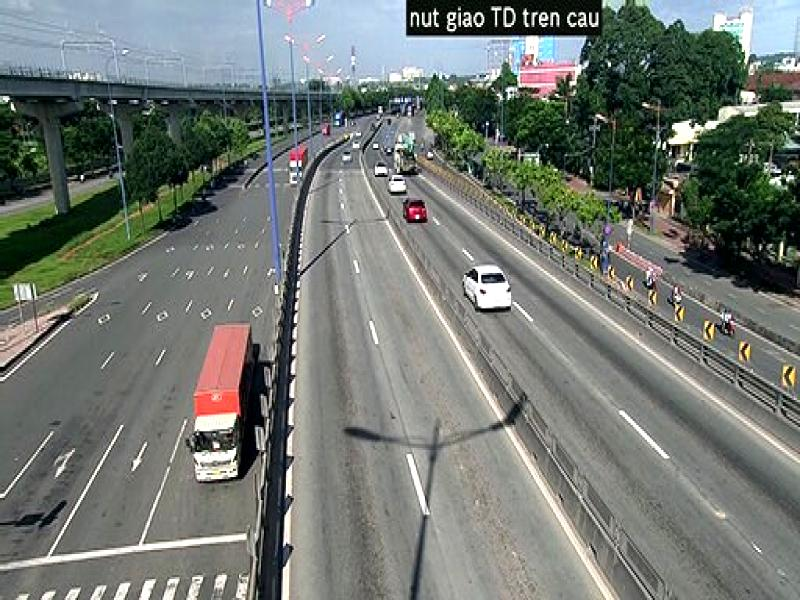truck: (183, 317, 254, 488)
